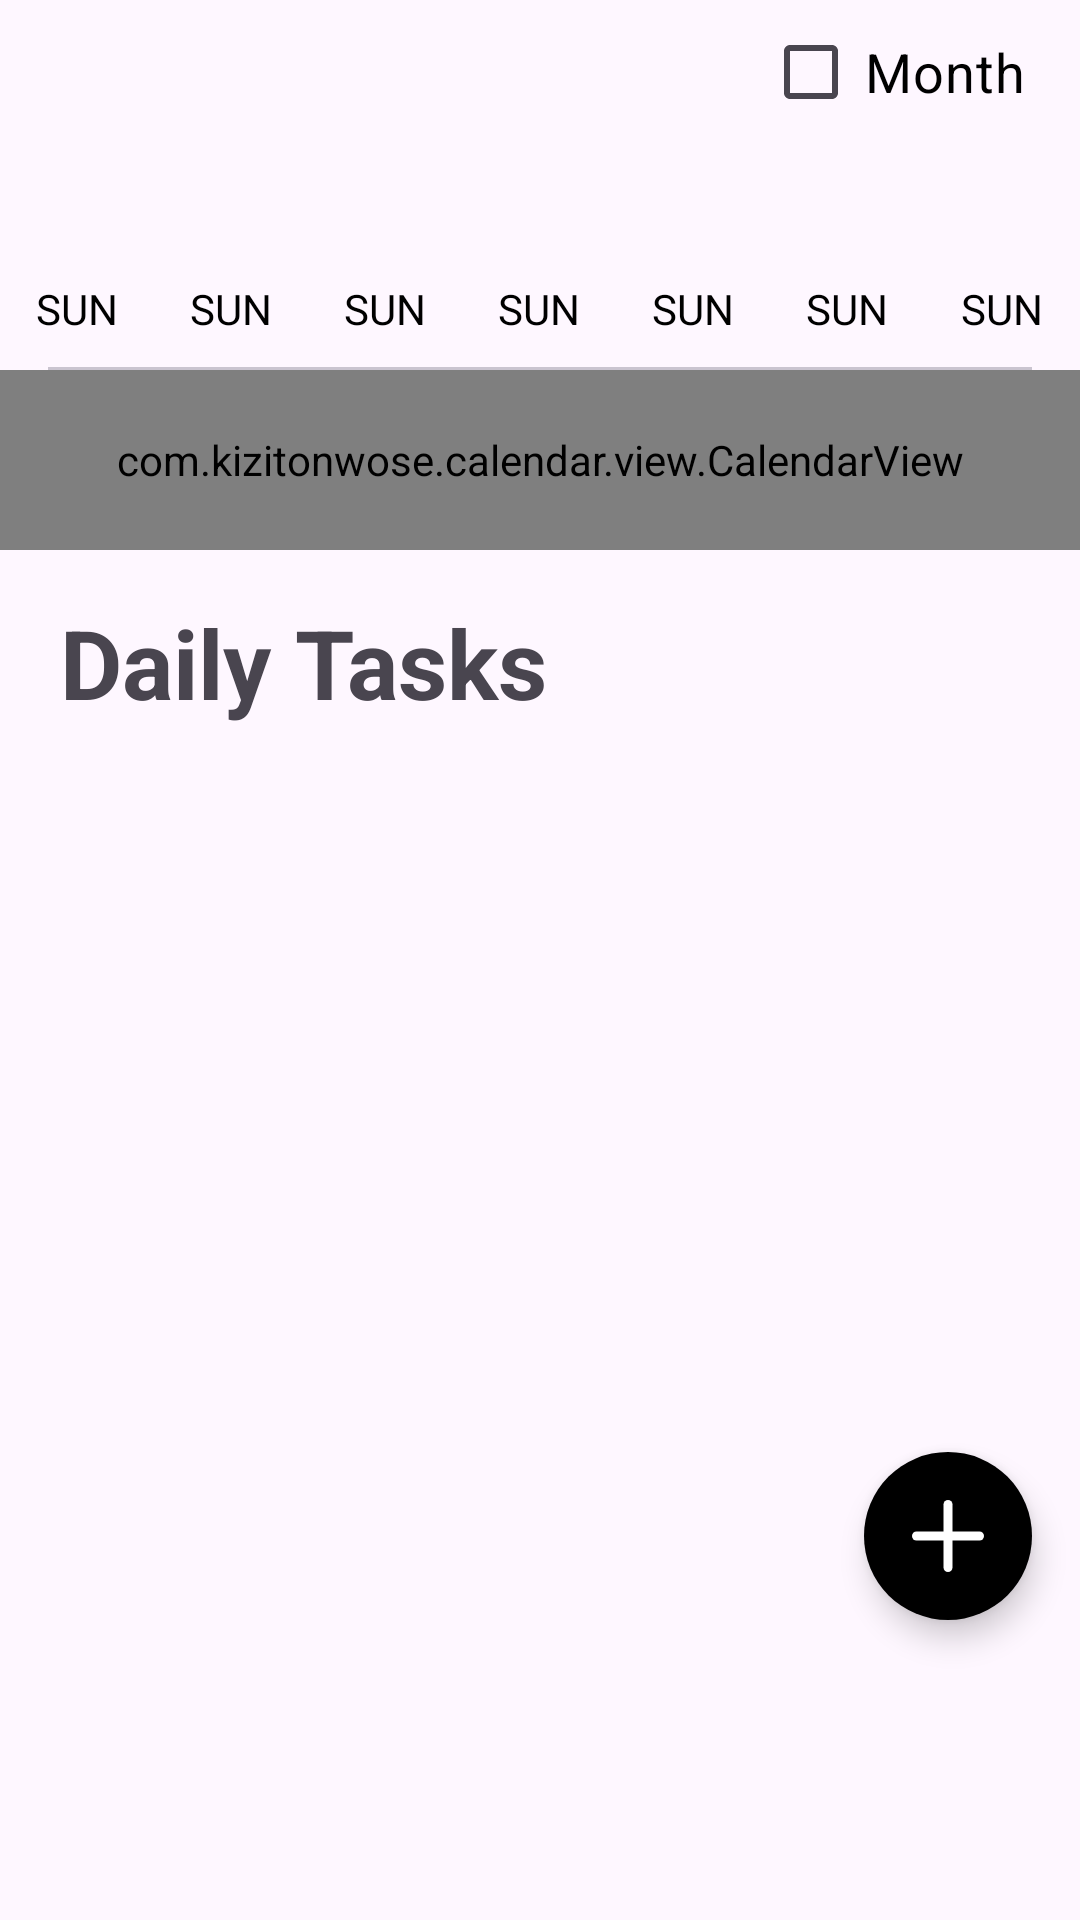

Where icons sit on this 1080w x 1920h app screen, as detection(x1, y1, x2, y2):
add: detection(864, 1452, 1032, 1620)
